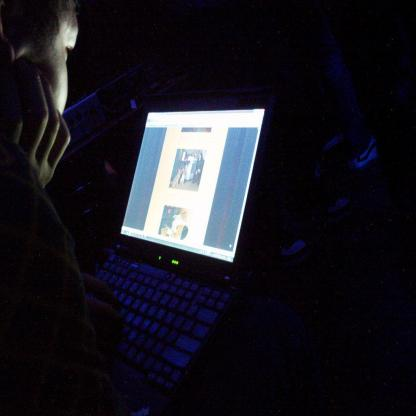board: (77, 66, 278, 410)
